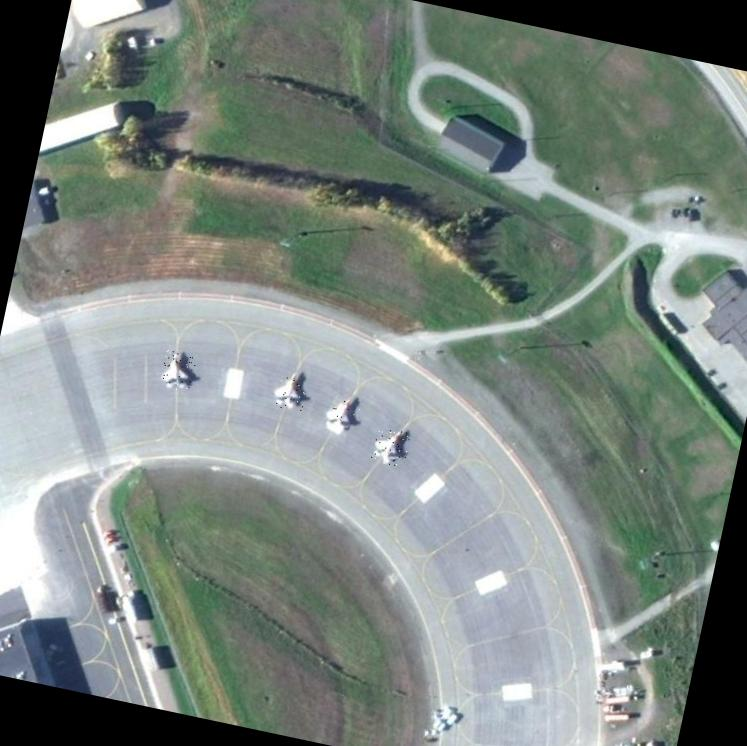A15: (370, 425, 411, 467), (322, 393, 362, 436), (158, 348, 196, 393), (272, 367, 309, 412)
